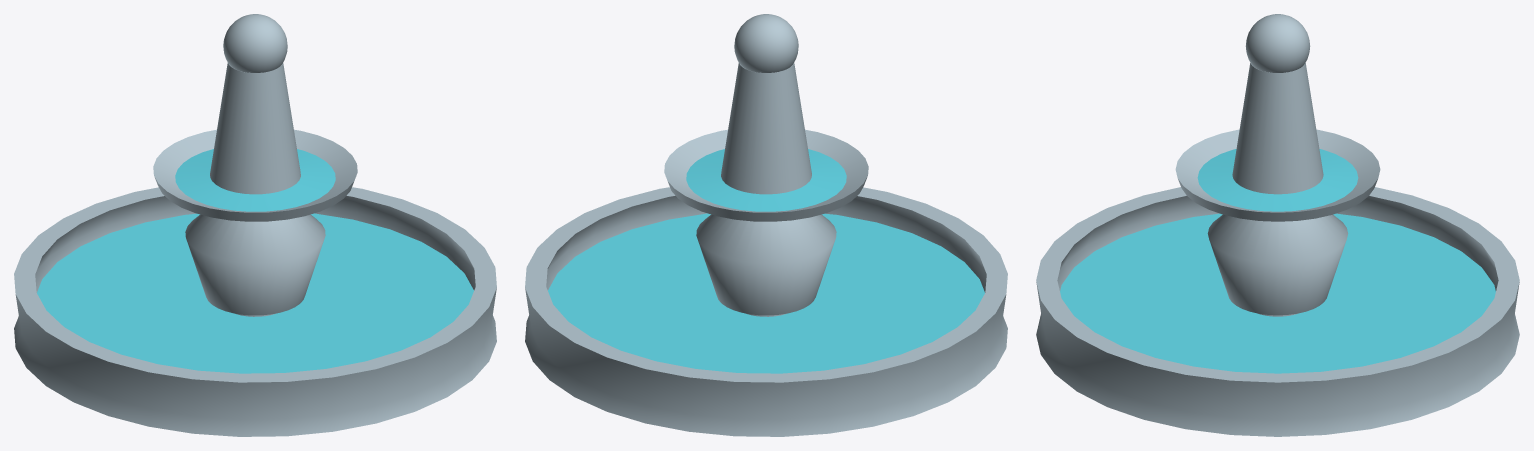
File: Fuente.fbx
3 views of the same model, side by side, from view 1: azimuth 30°, elevation 25°; view 2: azimuth 150°, elevation 25°; view 3: azimuth 270°, elevation 25° (orthographic).
Parts seen in each view (by area): view 1: Cylinder; view 2: Cylinder; view 3: Cylinder.
Part boxes in pixels (bbox=[...]): Cylinder: bbox=[14, 14, 496, 436]; Cylinder: bbox=[525, 14, 1007, 436]; Cylinder: bbox=[1036, 14, 1519, 436].
Bounding box in the file's own units: 356 × 258 × 356.
